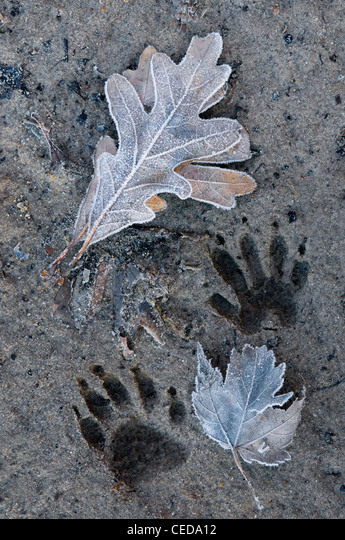raccoon: (62, 338, 205, 490), (192, 222, 323, 332)
